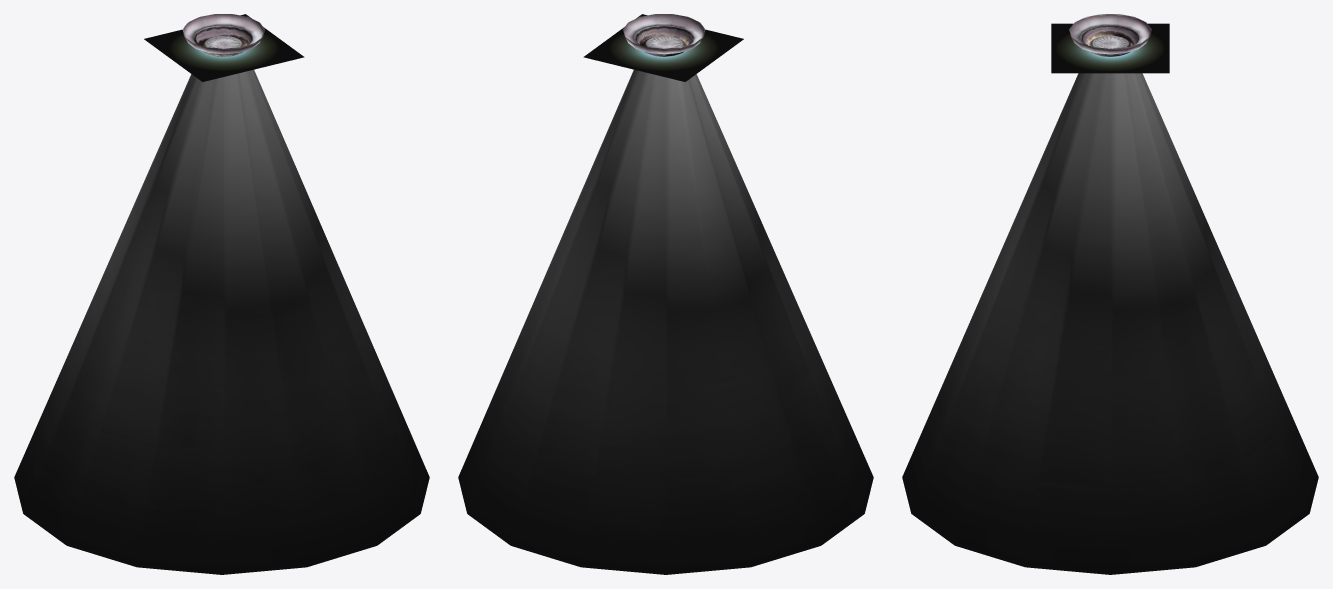
The model's file is Halogen02.fbx.
The picture shows the model from 3 angles, left to right: view 1: azimuth 30°, elevation 25°; view 2: azimuth 150°, elevation 25°; view 3: azimuth 270°, elevation 25°; orthographic projection.
Parts seen in each view (by area): view 1: LightBeam1, Light, Halogen02; view 2: LightBeam1, Light, Halogen02; view 3: LightBeam1, Light, Halogen02.
Boxes of the visible parts, x1,y1,x2,y2 form: LightBeam1: [14, 54, 429, 574]; Light: [144, 14, 304, 81]; Halogen02: [182, 14, 264, 56]; LightBeam1: [458, 54, 873, 574]; Light: [583, 14, 743, 81]; Halogen02: [623, 14, 705, 56]; LightBeam1: [902, 55, 1318, 574]; Light: [1051, 23, 1169, 73]; Halogen02: [1069, 14, 1151, 56].
Size of the model in its own units: 0.6732 by 0.8177 by 0.6769.
